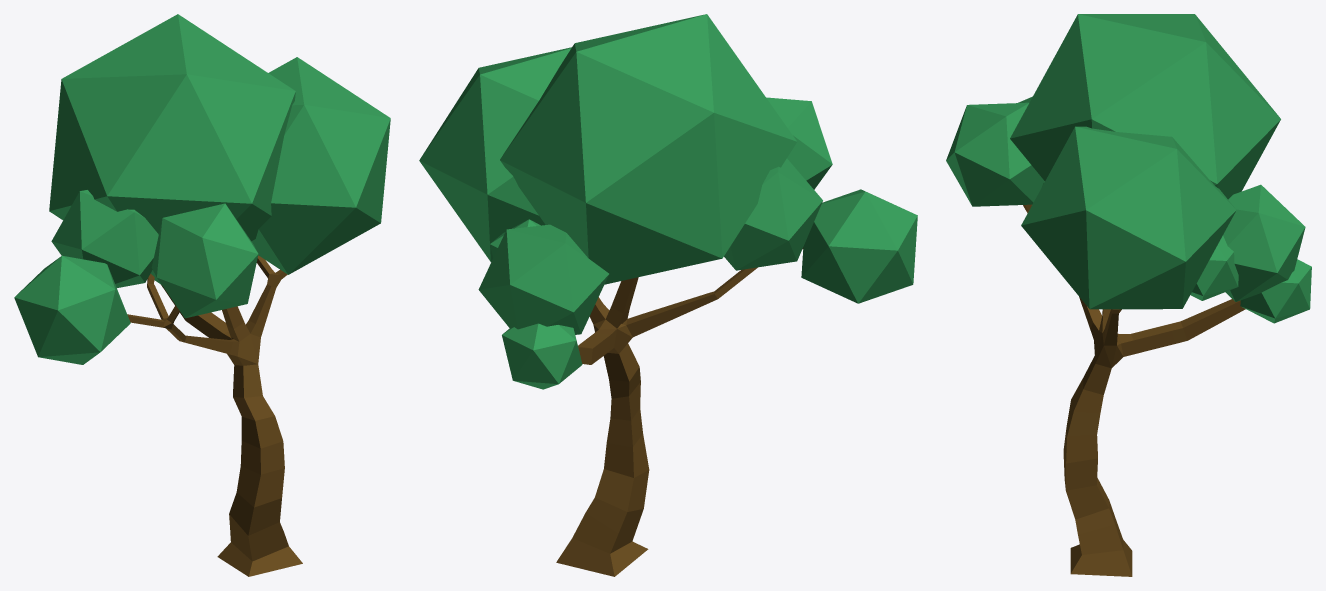
The model's file is tree01_3.fbx.
The picture shows the model from 3 angles, left to right: view 1: azimuth 30°, elevation 25°; view 2: azimuth 150°, elevation 25°; view 3: azimuth 270°, elevation 25°; orthographic projection. The views are drawn at different scales.
Parts seen in each view (by area): view 1: Cube; view 2: Cube; view 3: Cube.
Boxes of the visible parts, <box> form: Cube: <box>14,14,390,576</box>; Cube: <box>419,14,917,576</box>; Cube: <box>946,14,1311,576</box>.
Bounding box in the file's own units: 617 × 743 × 947.
